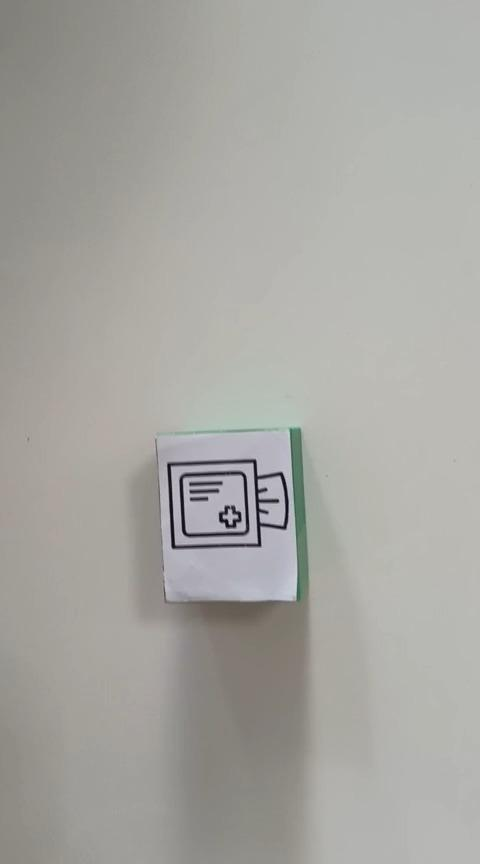Gauze: (153, 425, 308, 604)
